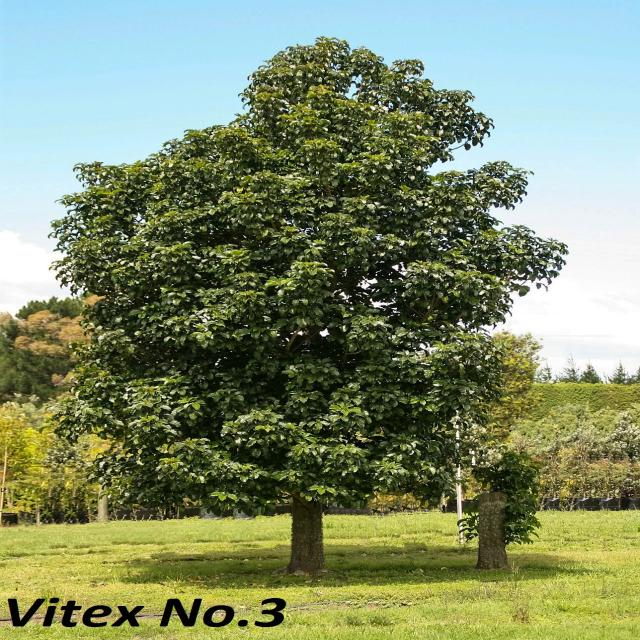Vitex lucens: (44, 42, 572, 577)
